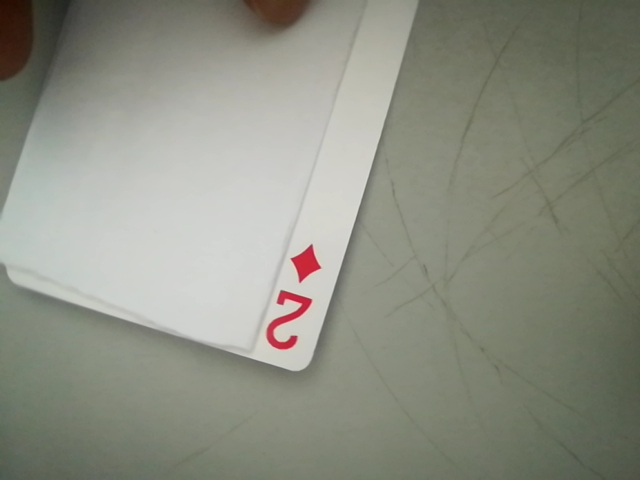fk 2: (254, 238, 333, 364)
